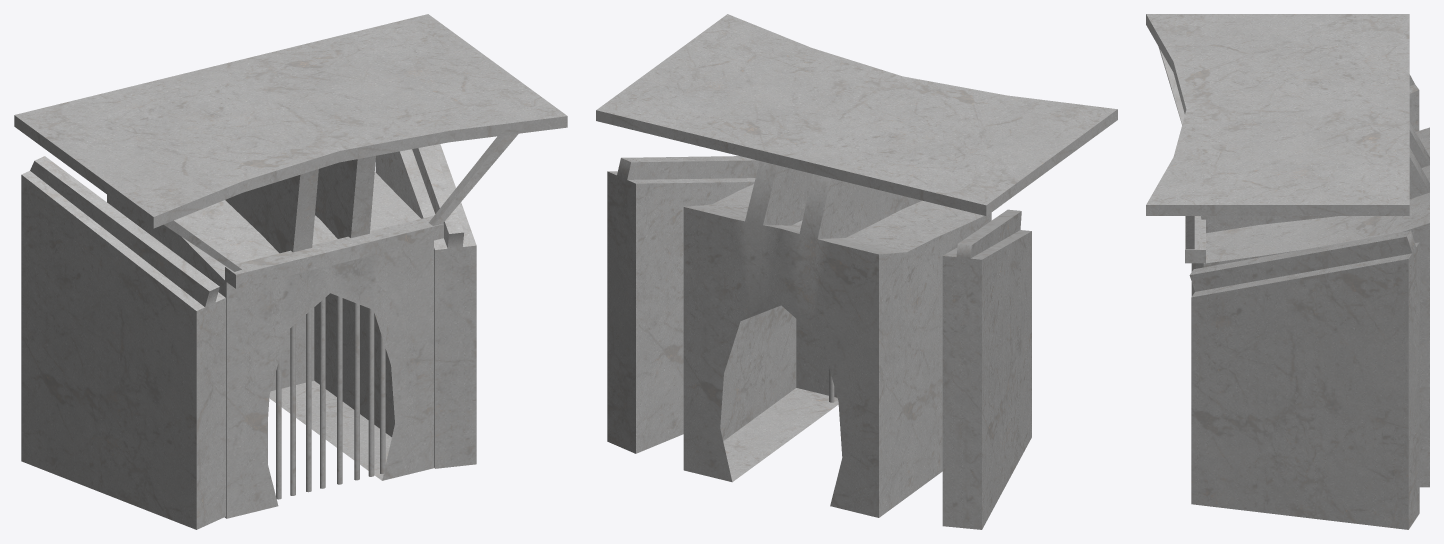
Rendered from portaocoliseugame.fbx.
3 views of the same model, side by side, from view 1: azimuth 30°, elevation 25°; view 2: azimuth 150°, elevation 25°; view 3: azimuth 270°, elevation 25° (orthographic). The views are drawn at different scales.
Visible parts, largest first — view 1: pCylinder12; view 2: pCylinder12; view 3: pCylinder12.
Part boxes in pixels (x1,y1,x2,y2): pCylinder12: (14,14,567,529); pCylinder12: (596,14,1117,529); pCylinder12: (1146,14,1429,529).
Size of the model in its own units: 50.97 by 41.1 by 32.01.
Materials: 1 (1 with a texture image).
